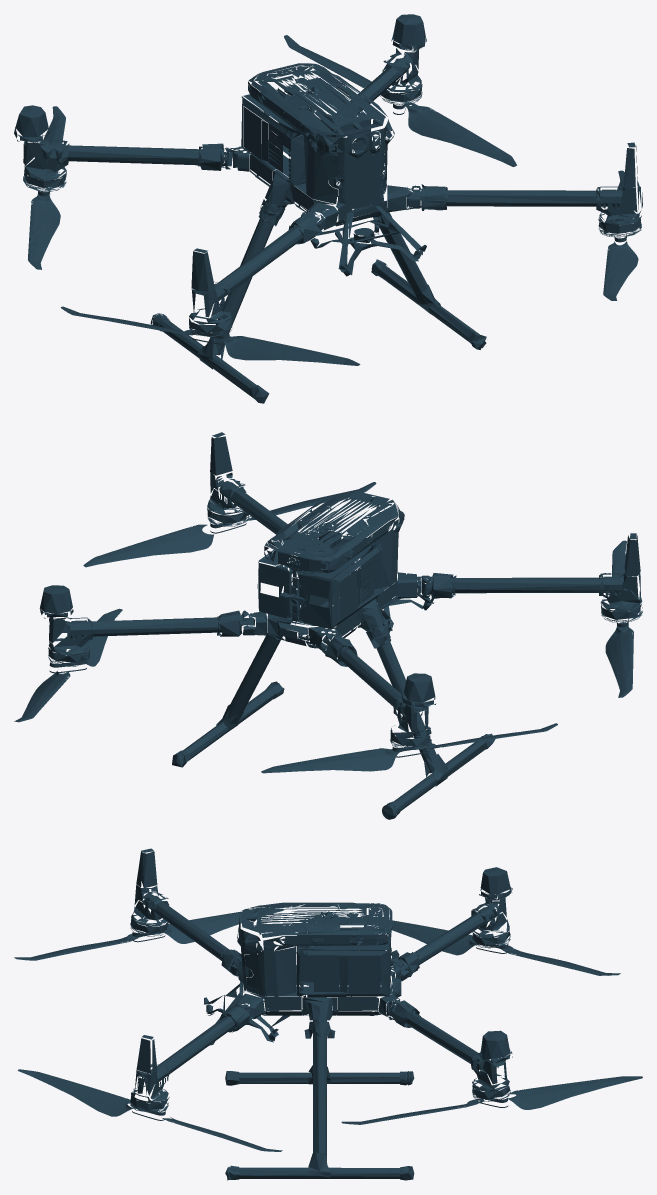
File: m350-flight.glb
The picture shows the model from 3 angles, top to bottom: view 1: azimuth 30°, elevation 25°; view 2: azimuth 150°, elevation 25°; view 3: azimuth 270°, elevation 25°; orthographic projection. The views are drawn at different scales.
Parts seen in each view (by area): view 1: body, rotor-rear-right, rotor-front-left, rotor-rear-left, rotor-front-right; view 2: body, rotor-front-right, rotor-rear-left, rotor-front-left, rotor-rear-right; view 3: body, rotor-rear-right, rotor-front-right, rotor-front-left, rotor-rear-left.
Part boxes in pixels (x1,y1,x2,y2): body: [14, 14, 642, 403]; rotor-rear-right: [284, 35, 516, 166]; rotor-front-left: [61, 306, 360, 365]; rotor-rear-left: [28, 106, 65, 269]; rotor-front-right: [603, 170, 638, 300]; body: [39, 432, 642, 819]; rotor-front-right: [83, 482, 376, 567]; rotor-rear-left: [261, 723, 557, 773]; rotor-front-left: [605, 540, 640, 697]; rotor-rear-right: [14, 608, 122, 722]; body: [130, 848, 512, 1180]; rotor-rear-right: [341, 1076, 642, 1124]; rotor-front-right: [18, 1069, 282, 1151]; rotor-front-left: [14, 908, 283, 960]; rotor-rear-left: [386, 920, 620, 975].
Size of the model in its own units: 997 by 423 by 1088.
